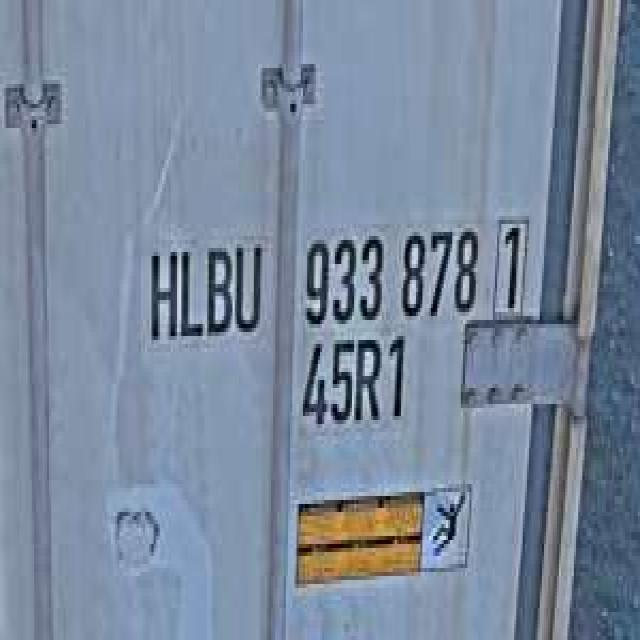dv: (489, 204, 531, 320)
owner: (140, 224, 266, 352)
serial: (297, 212, 482, 332)
size: (294, 332, 410, 432)
